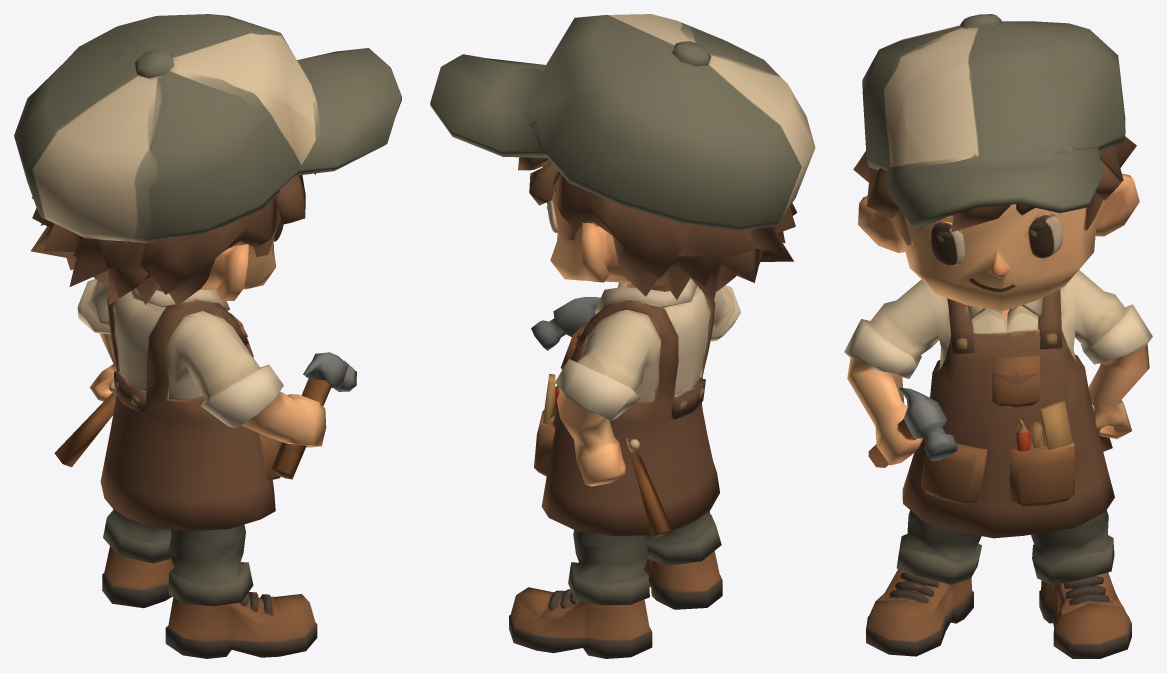
The model's file is player.glb.
The picture shows the model from 3 angles, left to right: view 1: azimuth 30°, elevation 25°; view 2: azimuth 150°, elevation 25°; view 3: azimuth 270°, elevation 25°; orthographic projection. The views are drawn at different scales.
Visible parts, largest first — view 1: tripo_node_f3dff0f1-5bbf-44ea-bed9-9a98ed36db3b; view 2: tripo_node_f3dff0f1-5bbf-44ea-bed9-9a98ed36db3b; view 3: tripo_node_f3dff0f1-5bbf-44ea-bed9-9a98ed36db3b.
Boxes of the visible parts, bbox=[...] form: tripo_node_f3dff0f1-5bbf-44ea-bed9-9a98ed36db3b: bbox=[14, 14, 401, 658]; tripo_node_f3dff0f1-5bbf-44ea-bed9-9a98ed36db3b: bbox=[430, 14, 815, 658]; tripo_node_f3dff0f1-5bbf-44ea-bed9-9a98ed36db3b: bbox=[844, 14, 1152, 658].
Size of the model in its own units: 0.6362 by 0.9995 by 0.4741.
1 material, 1 textured.
